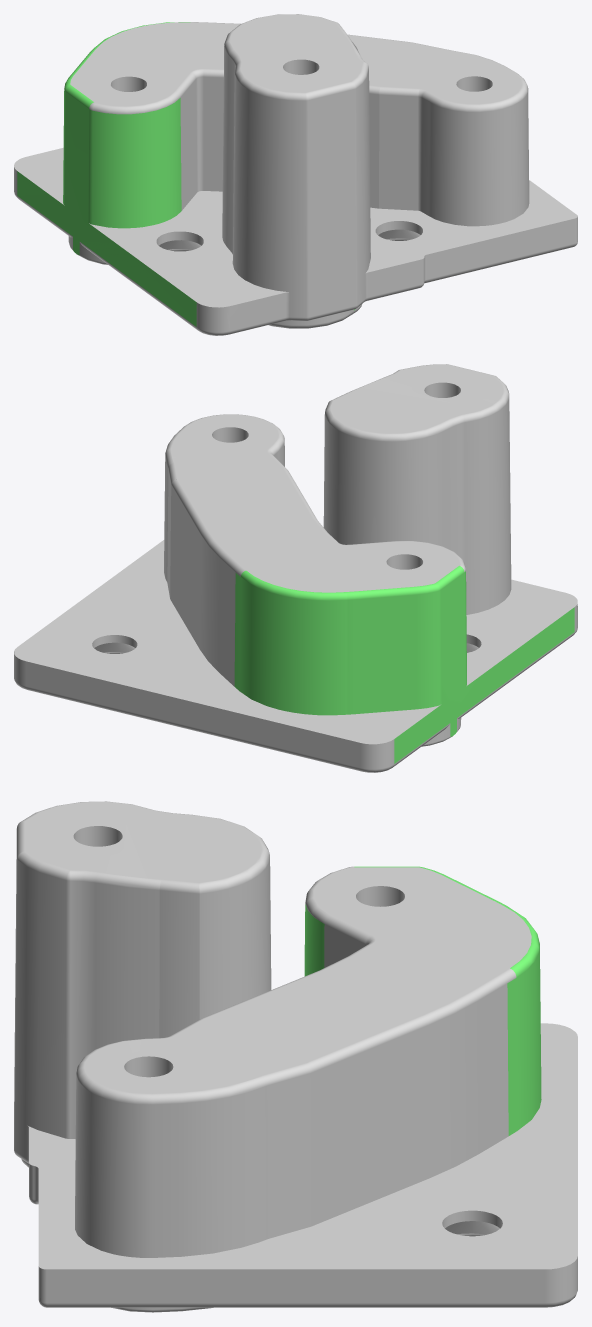
3 renders of one model, top to bottom at view 1: azimuth 30°, elevation 25°; view 2: azimuth 150°, elevation 25°; view 3: azimuth 270°, elevation 25°, orthographic. The views are drawn at different scales.
Visible parts, largest first — view 1: 门体-69_Default; view 2: 门体-69_Default; view 3: 门体-69_Default.
Part boxes in pixels (<box>): 门体-69_Default: <box>14,14,577,335</box>; 门体-69_Default: <box>14,364,577,772</box>; 门体-69_Default: <box>14,801,577,1312</box>.
Bounding box in the file's own units: 0.0354 × 0.0215 × 0.0343.
